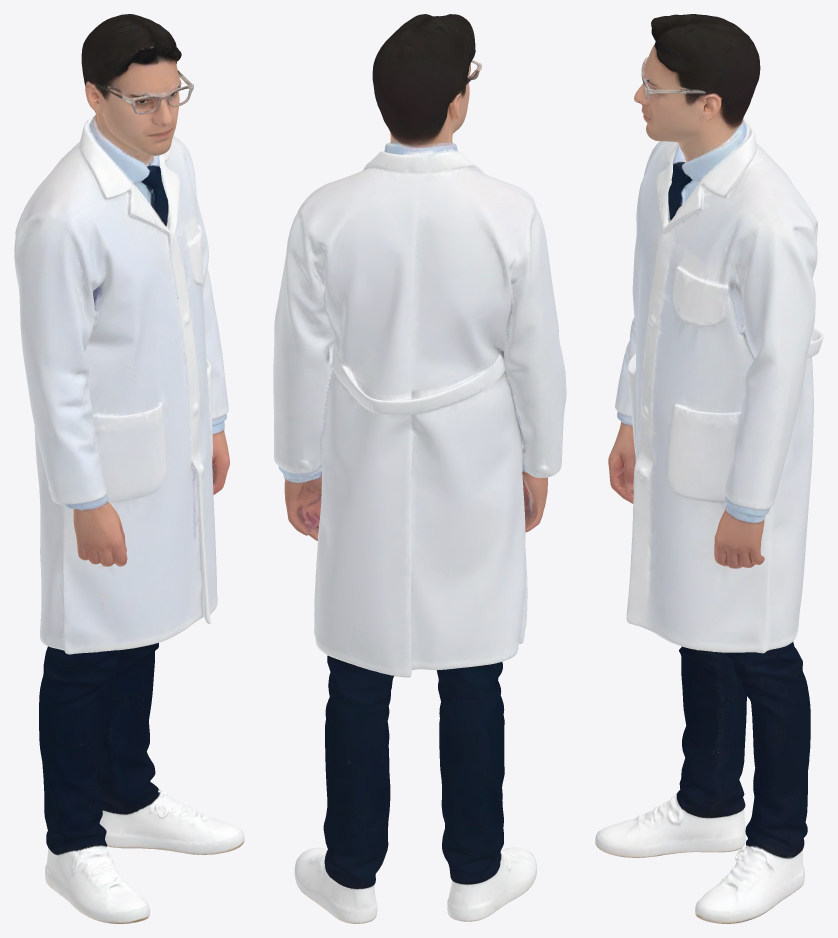
File: scientist_opt.glb
3 renders of one model, left to right at view 1: azimuth 30°, elevation 25°; view 2: azimuth 150°, elevation 25°; view 3: azimuth 270°, elevation 25°, orthographic.
Parts seen in each view (by area): view 1: mesh_0; view 2: mesh_0; view 3: mesh_0.
Part boxes in pixels (box(x1,y1,x2,y2)): mesh_0: box(14, 14, 244, 923); mesh_0: box(273, 14, 566, 923); mesh_0: box(595, 14, 823, 923).
Bounding box in the file's own units: 0.5414 × 1.9 × 0.4609.
1 material, 1 textured.
